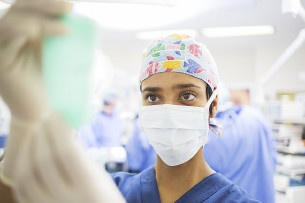Mask: (136, 83, 210, 158)
